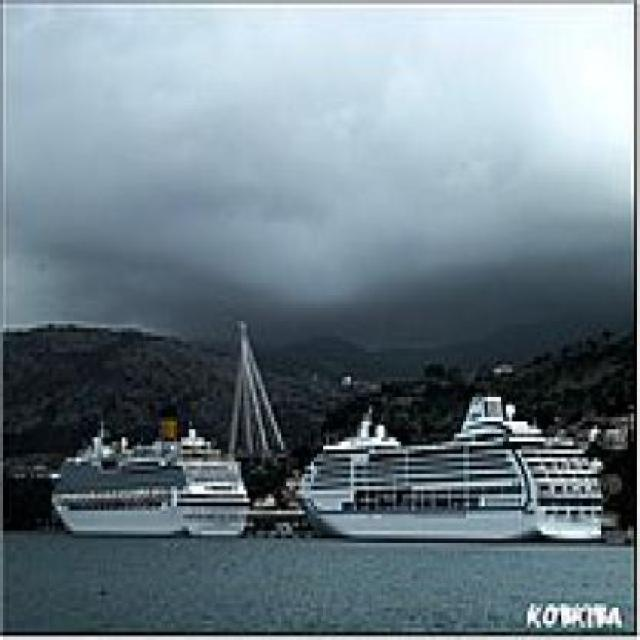cruise: (297, 386, 617, 552), (40, 409, 257, 548)
